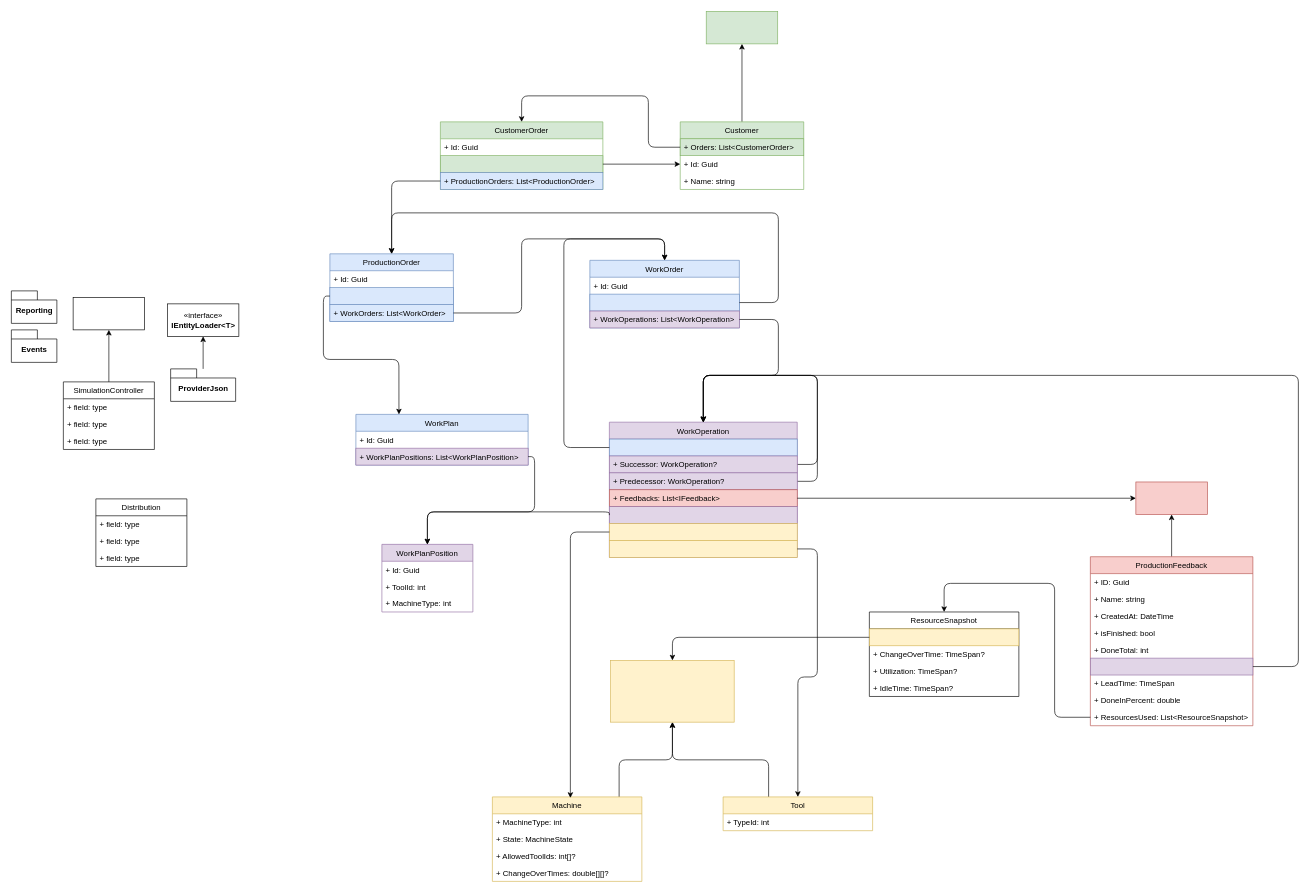
Some shapes in this 1315 by 894 pixel diagram are drawn without their labels. The centre of each missing label's shape, as x and y in pixels:
"+ CustomerId: Guid" belongs at pixel 521 164.
"+ Machine: Machine?" belongs at pixel 703 531.
"+ ProductionOrder: ProductionOrder" belongs at pixel 664 302.
"+ Resource: IResource?" belongs at pixel 944 637.
"+ Tool: Tool?" belongs at pixel 703 548.
"+ WorkOperation: WorkOperation" belongs at pixel 1171 666.
"+ WorkOrder: WorkOrder" belongs at pixel 703 447.
"+ WorkPlan: WorkPlan" belongs at pixel 391 296.
"+ WorkPlanPosition: WorkPlanPosition" belongs at pixel 703 515.
"<<Interface>> IResource + Id: Guid + Name: string + Description: string" belongs at pixel 672 691.
"«interface» IController" belongs at pixel 108 313.
"«interface» ICustomer" belongs at pixel 742 27.
"«interface» IFeedback" belongs at pixel 1171 497.
